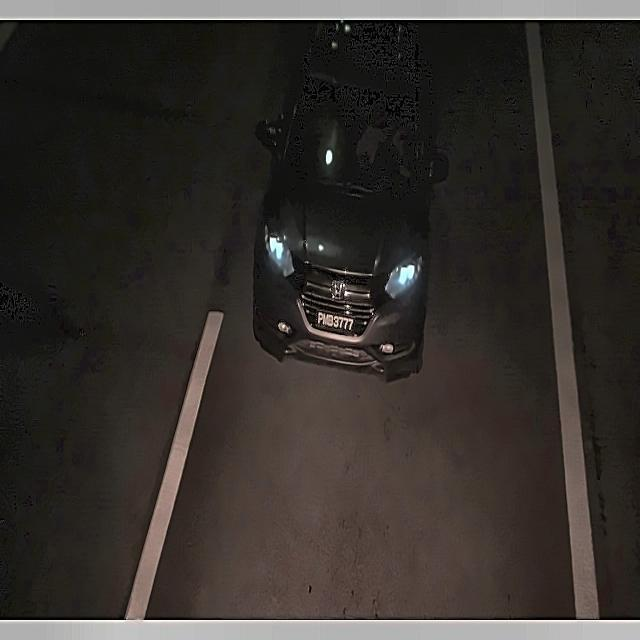car: (309, 307, 362, 338)
